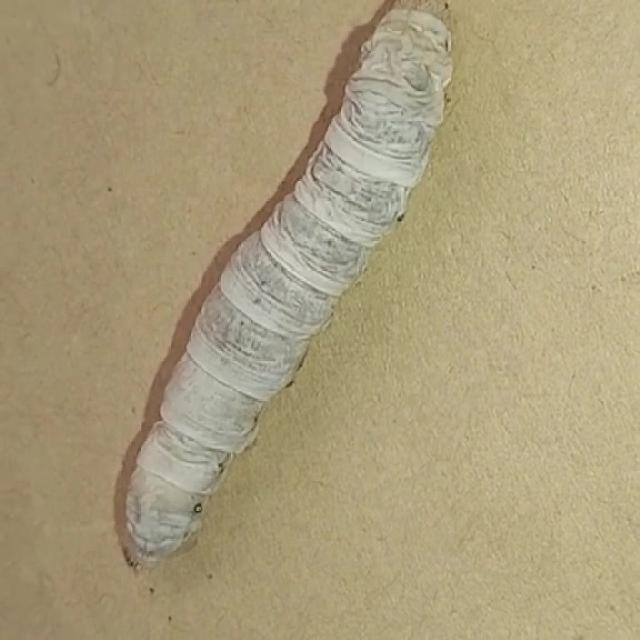Grasserie: (71, 0, 496, 588)
